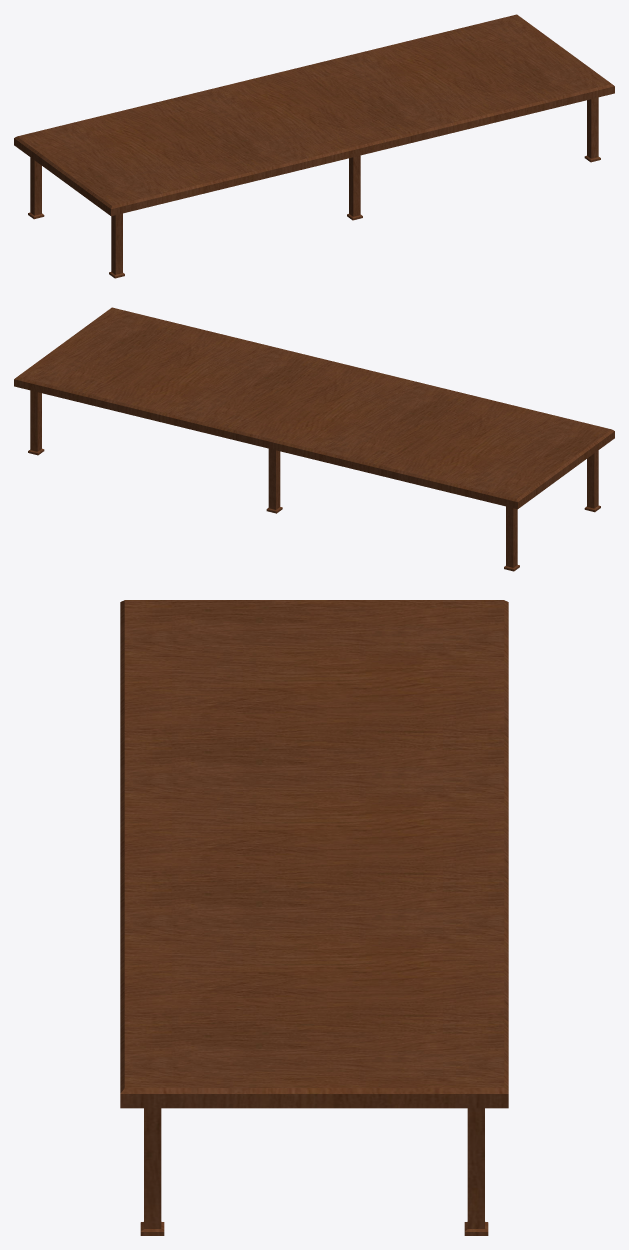
The model's file is Dining Table.dae.
3 renders of one model, top to bottom at view 1: azimuth 30°, elevation 25°; view 2: azimuth 150°, elevation 25°; view 3: azimuth 270°, elevation 25°, orthographic. The views are drawn at different scales.
Parts seen in each view (by area): view 1: SketchUp (×5); view 2: SketchUp (×5); view 3: SketchUp (×3).
Boxes of the visible parts, x1,y1,x2,y2 form: SketchUp (×5): [14, 14, 614, 278]; SketchUp (×5): [14, 307, 614, 571]; SketchUp (×3): [120, 600, 508, 1235].
Size of the model in its own units: 249 by 83.32 by 36.57.
Materials: 1 (1 with a texture image).
